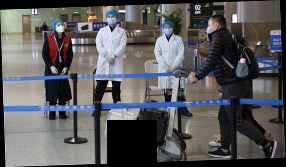with_mask: (106, 14, 117, 26), (55, 22, 66, 33), (163, 26, 174, 37), (205, 22, 214, 35)
